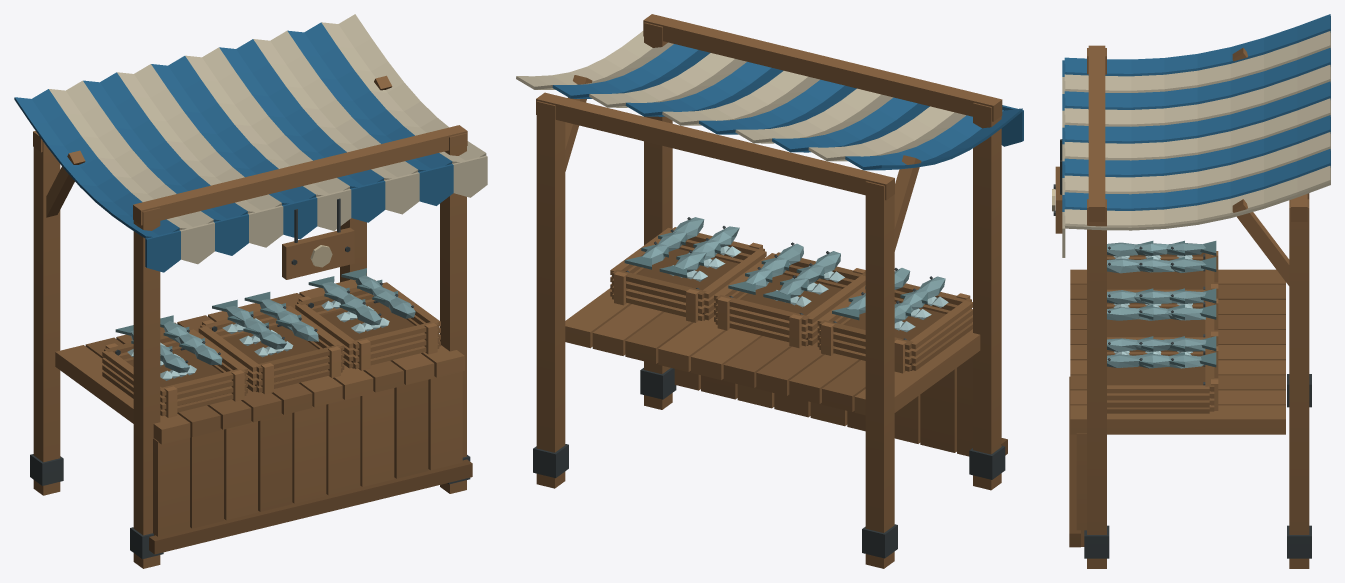
File: town_stall_fish.glb
3 renders of one model, left to right at view 1: azimuth 30°, elevation 25°; view 2: azimuth 150°, elevation 25°; view 3: azimuth 270°, elevation 25°, orthographic. The views are drawn at different scales.
Visible parts, largest first — view 1: town_stall_fish; view 2: town_stall_fish; view 3: town_stall_fish.
Part boxes in pixels (<box>): town_stall_fish: <box>14,14,487,568</box>; town_stall_fish: <box>516,14,1023,568</box>; town_stall_fish: <box>1052,14,1330,568</box>.
Bounding box in the file's own units: 2.4 × 2.6 × 1.68.
